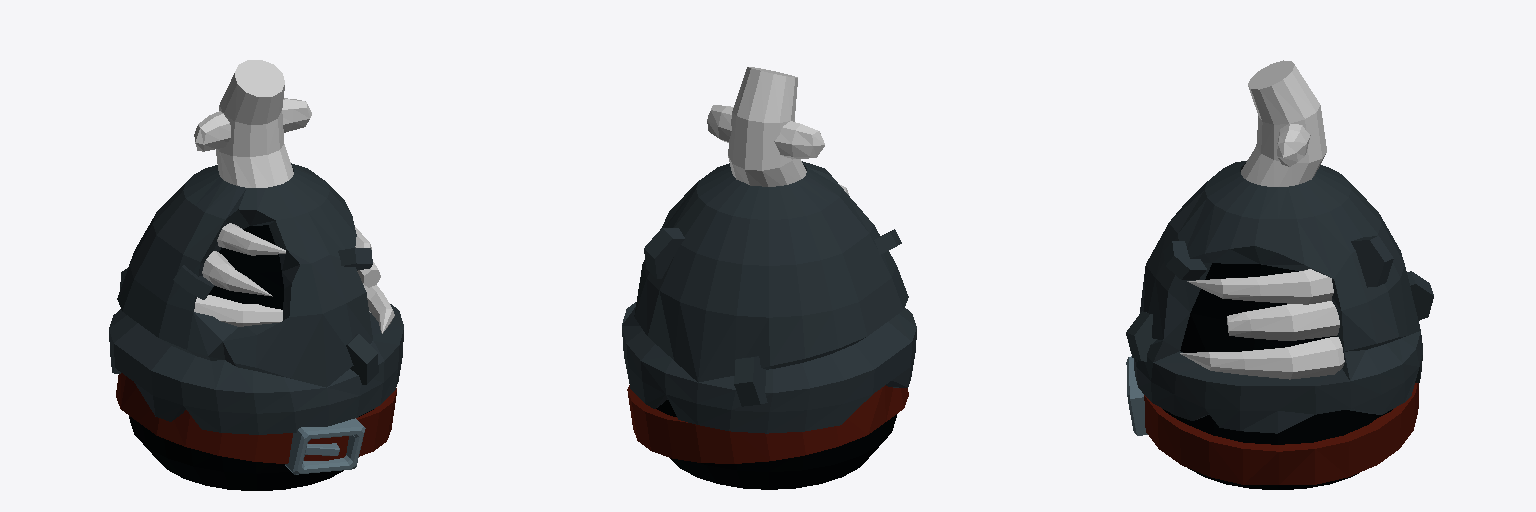
File: character_skeleton_warrior_body.obj
The picture shows the model from 3 angles: view 1: azimuth 30°, elevation 25°; view 2: azimuth 150°, elevation 25°; view 3: azimuth 270°, elevation 25°; orthographic projection.
Visible parts, largest first — view 1: character_skeleton_warrior_body_Cube.7637; view 2: character_skeleton_warrior_body_Cube.7637; view 3: character_skeleton_warrior_body_Cube.7637.
Part boxes in pixels (x1,y1,x2,y2): character_skeleton_warrior_body_Cube.7637: (109, 60, 403, 490); character_skeleton_warrior_body_Cube.7637: (622, 67, 916, 489); character_skeleton_warrior_body_Cube.7637: (1126, 60, 1433, 489).
Size of the model in its own units: 0.6866 by 1.01 by 0.7367.